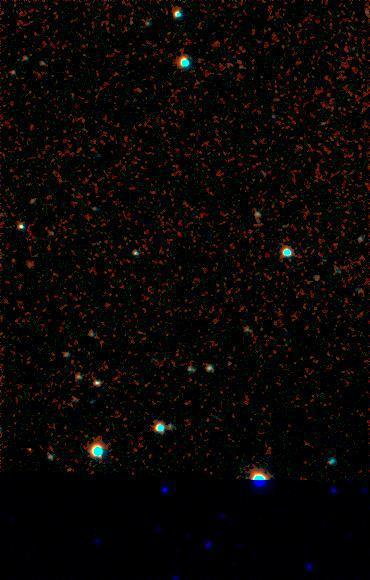star: (59, 457, 89, 487)
